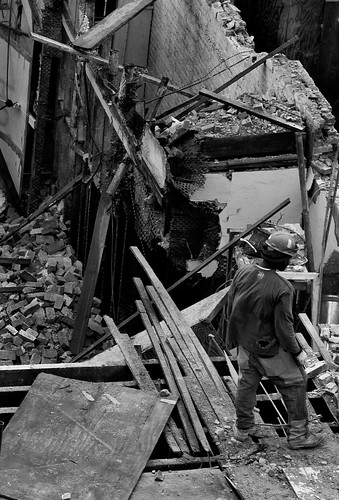person hardhat: (218, 231, 325, 458)
